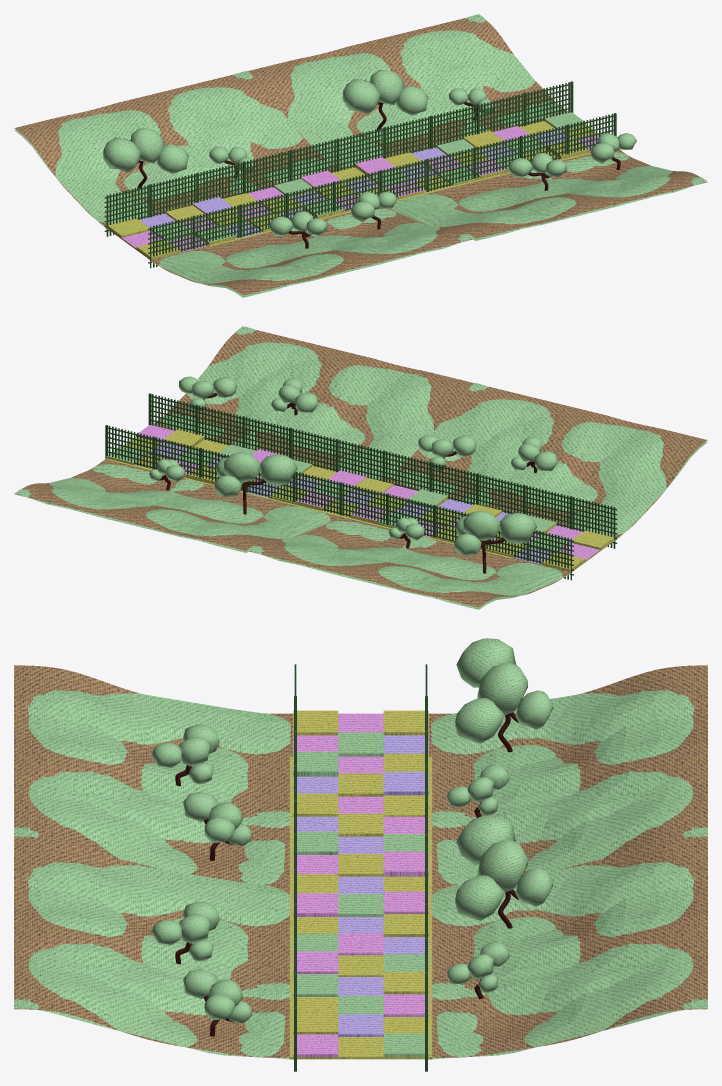
File: MapPatchworkPet02.fbx
3 views of the same model, one above another, from view 1: azimuth 30°, elevation 25°; view 2: azimuth 150°, elevation 25°; view 3: azimuth 270°, elevation 25° (orthographic). The views are drawn at different scales.
Visible parts, largest first — view 1: Dirt, Fences, Ground, Icosphere.006, Icosphere.003, Icosphere.004, Icosphere.002; view 2: Dirt, Fences, Ground, Icosphere.006, Icosphere.003, Icosphere.002, Icosphere.004; view 3: Dirt, Ground, Icosphere.003, Icosphere.006, Icosphere.002, Icosphere.004, Fences.
Part boxes in pixels (x1=…): Dirt: x1=14, y1=14, x2=707, y2=297; Fences: x1=104, y1=81, x2=616, y2=268; Ground: x1=107, y1=112, x2=601, y2=260; Icosphere.006: x1=342, y1=70, x2=493, y2=115; Icosphere.003: x1=103, y1=128, x2=253, y2=174; Icosphere.004: x1=269, y1=191, x2=397, y2=236; Icosphere.002: x1=508, y1=133, x2=636, y2=177; Dirt: x1=14, y1=326, x2=707, y2=609; Fences: x1=105, y1=393, x2=617, y2=580; Ground: x1=105, y1=424, x2=614, y2=572; Icosphere.006: x1=149, y1=452, x2=297, y2=497; Icosphere.003: x1=389, y1=510, x2=536, y2=555; Icosphere.002: x1=178, y1=376, x2=318, y2=412; Icosphere.004: x1=418, y1=435, x2=558, y2=471; Dirt: x1=14, y1=665, x2=707, y2=1059; Ground: x1=289, y1=710, x2=432, y2=1059; Icosphere.003: x1=446, y1=638, x2=552, y2=815; Icosphere.006: x1=446, y1=815, x2=552, y2=992; Icosphere.002: x1=151, y1=901, x2=251, y2=1023; Icosphere.004: x1=151, y1=724, x2=252, y2=845; Fences: x1=294, y1=664, x2=427, y2=1071.
Bounding box in the file's own units: 3952 × 588 × 3350.
Materials: 8 (8 with a texture image).
